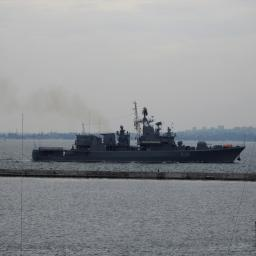Fragata: (31, 98, 248, 164)
